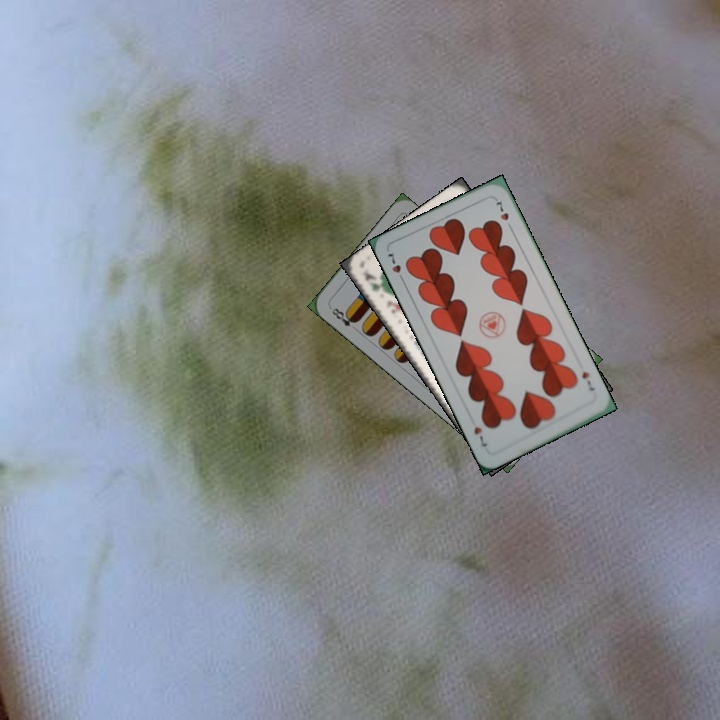E8: (326, 303, 360, 329)
GK: (360, 267, 390, 297)
H7: (383, 248, 408, 285), (578, 367, 597, 393)
